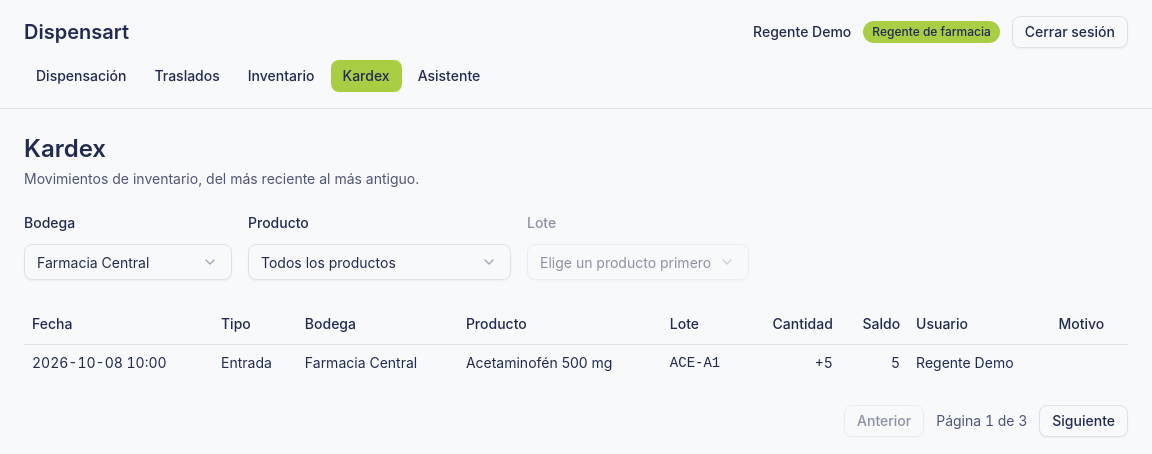
pantalla Kardex › Siguiente página: página 2, "Página 2 de 3" y la URL incluye la página
This screenshot has width=1152, height=454.
Click the button "Siguiente" at (1084, 421), box x1=1039 y1=405 x2=1128 y2=437
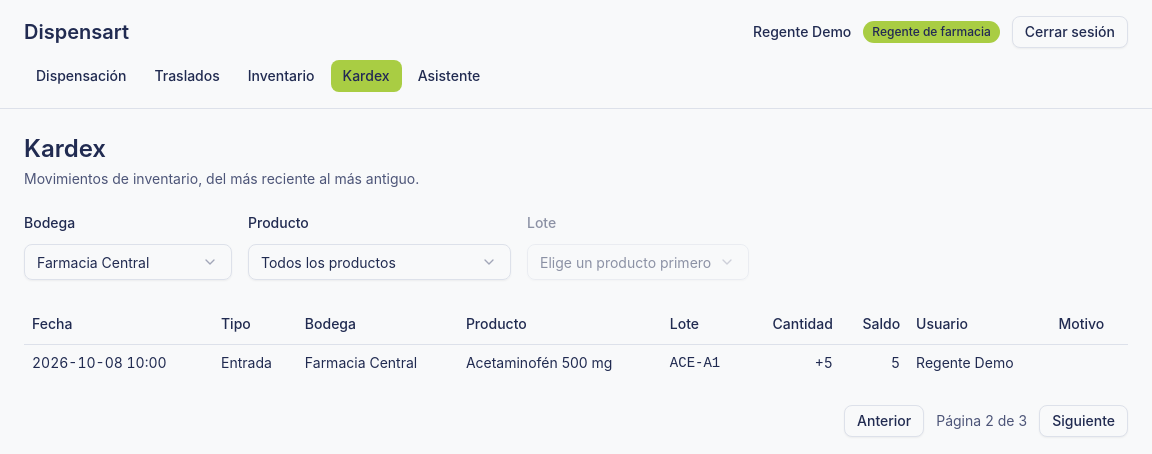
Expected: the text "Página 2 de 3" is shown, x1=936 y1=411 x2=1027 y2=431
